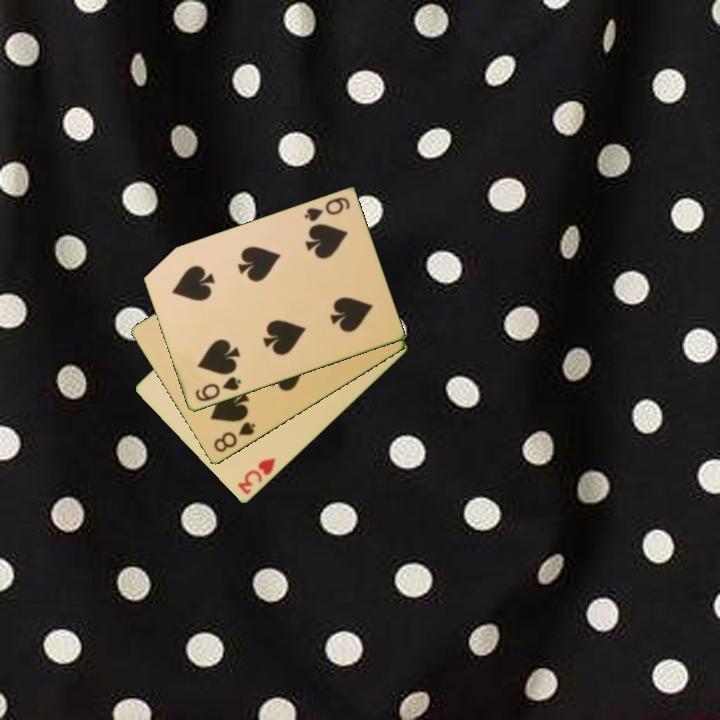3h: (234, 454, 279, 498)
6s: (191, 373, 244, 405), (300, 194, 353, 225)
8s: (210, 419, 258, 456)
